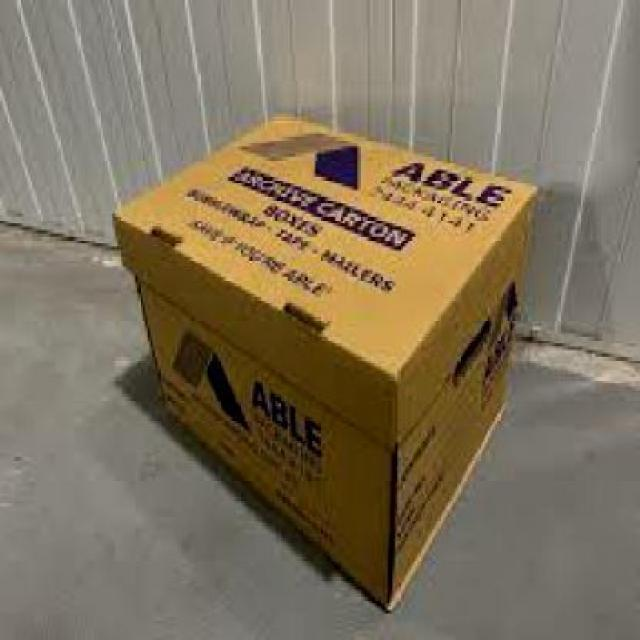box: (110, 103, 553, 631)
